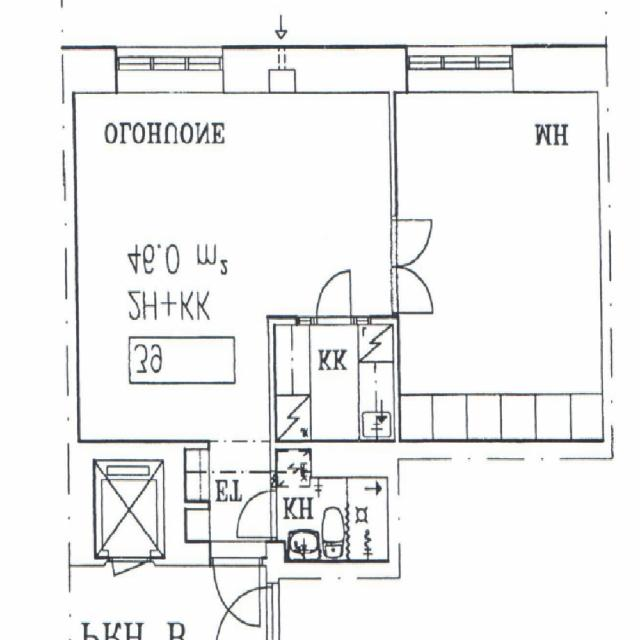door: (215, 540, 259, 630), (236, 490, 277, 536), (394, 218, 434, 265), (394, 265, 434, 311), (317, 269, 350, 324)
